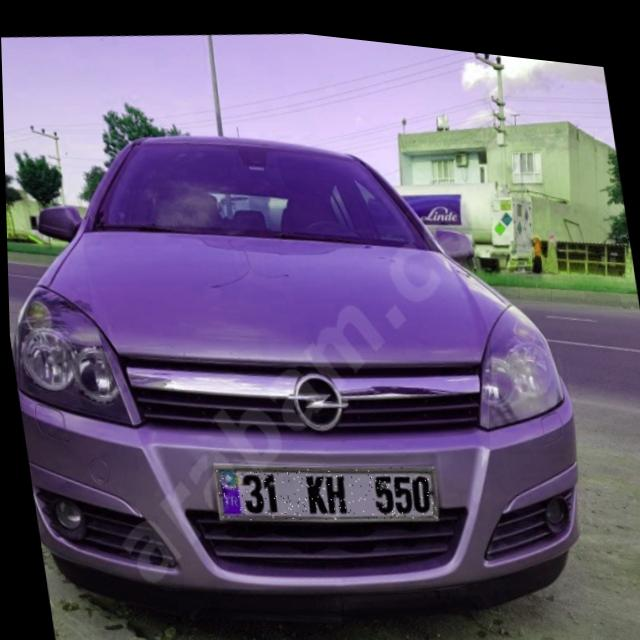license_plate: (211, 437, 437, 535)
